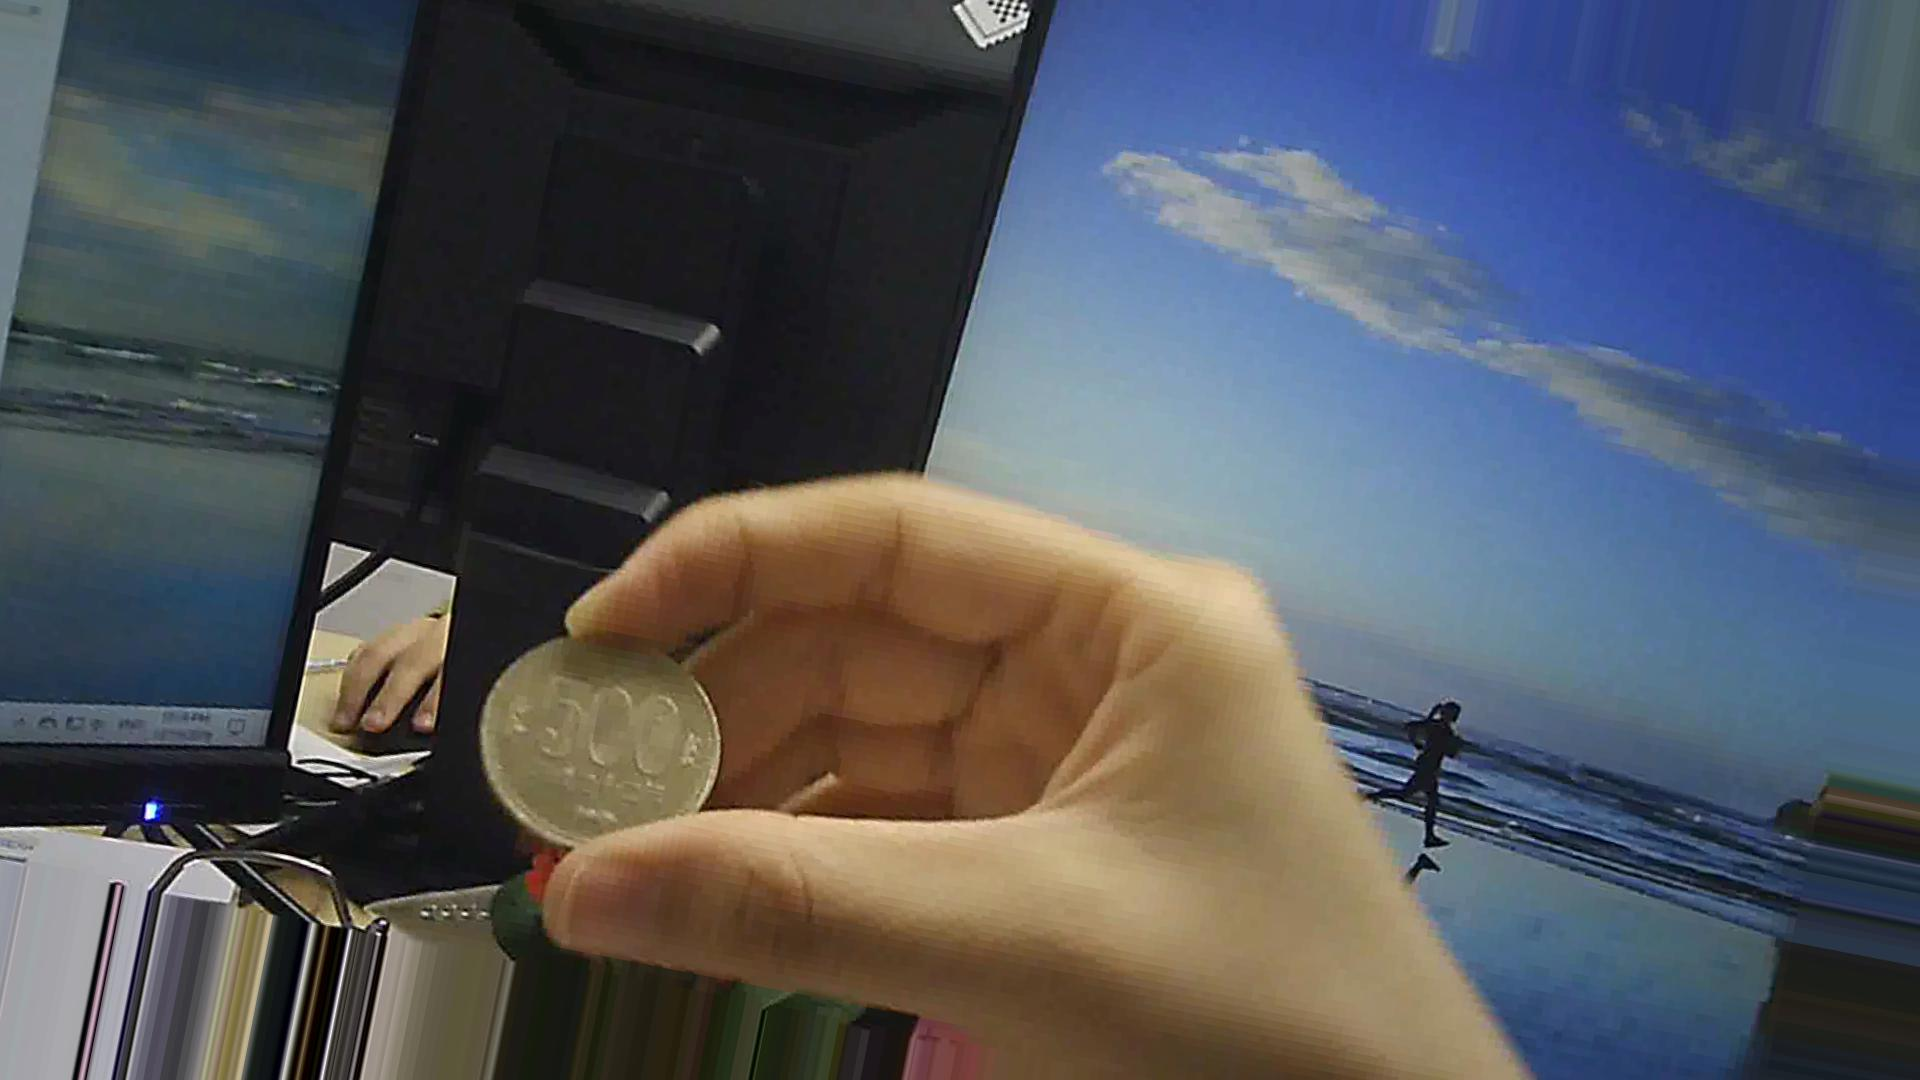500 Yen: (460, 617, 731, 839)
